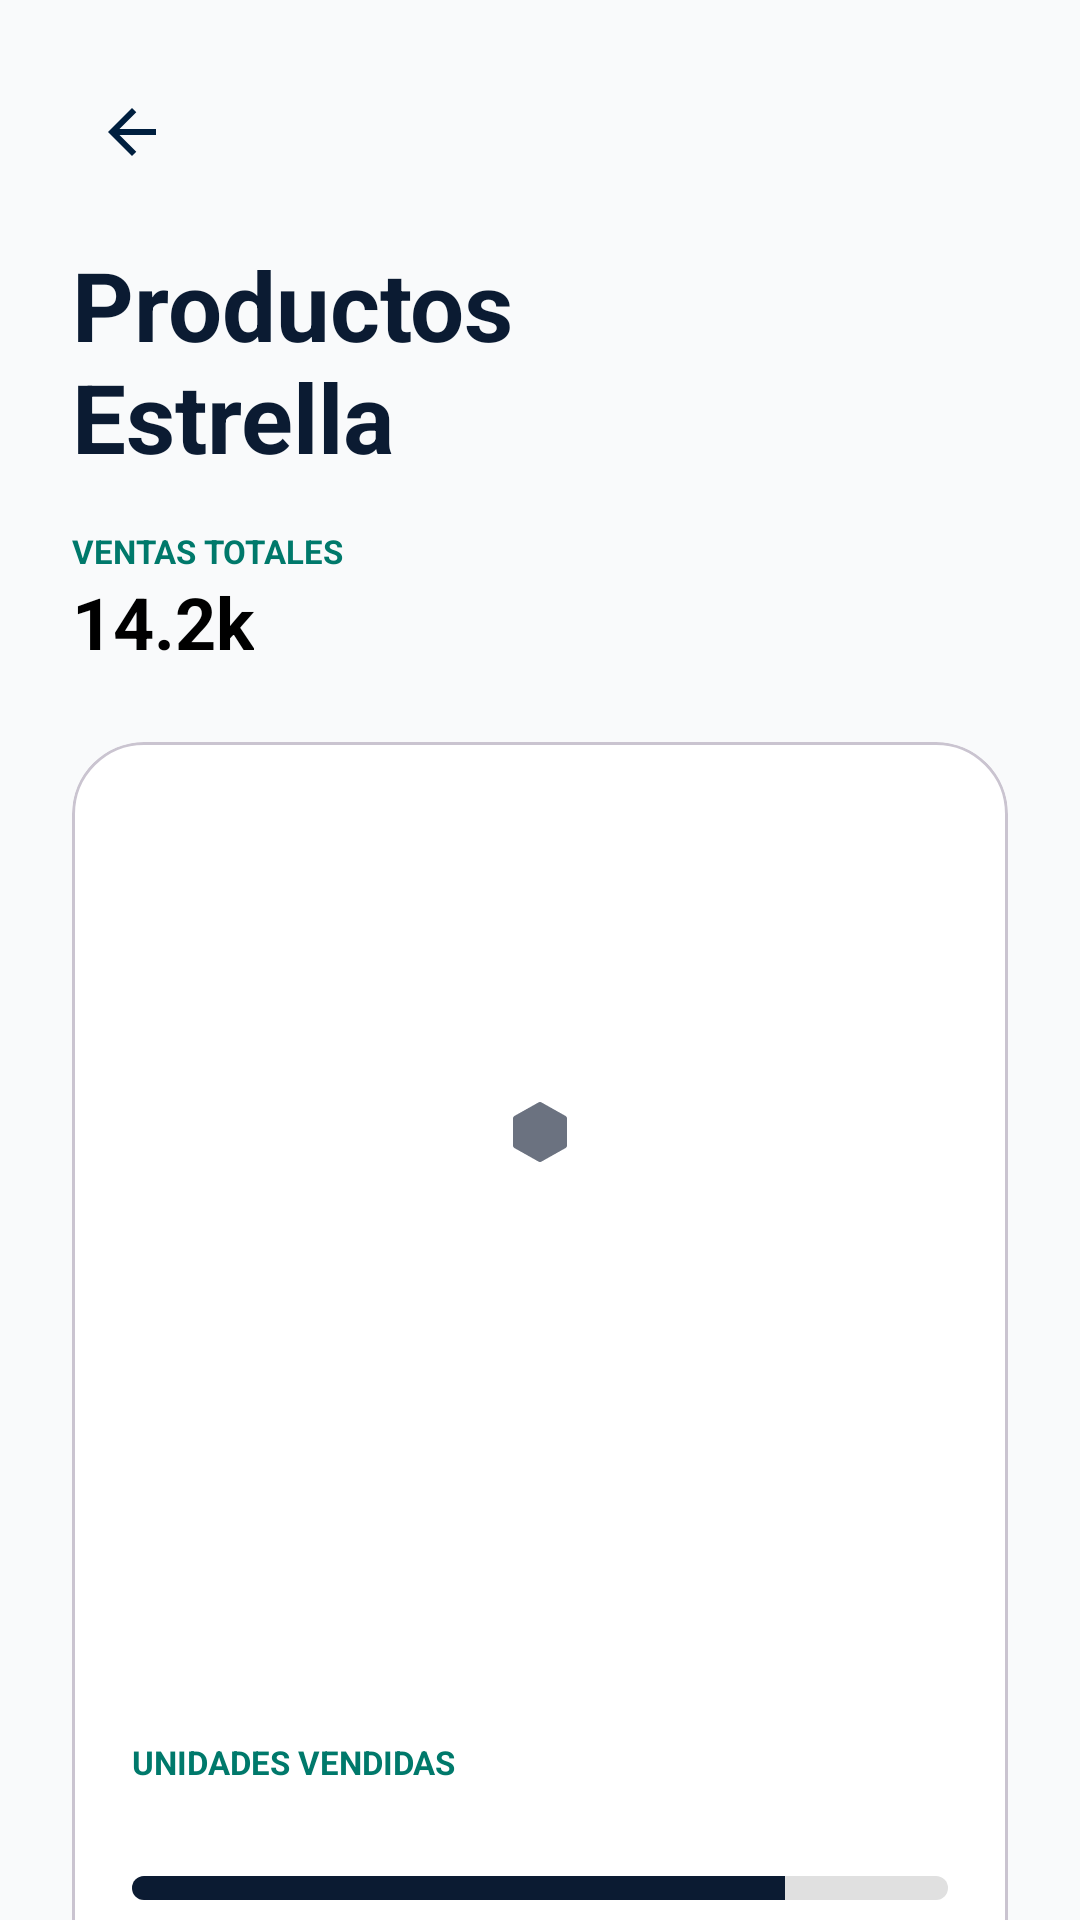

Screen size 1080px×1920px. Icon name, then its box in pixels as (x1, y1, x2, y2):
Regresar: (108, 108, 156, 156)
